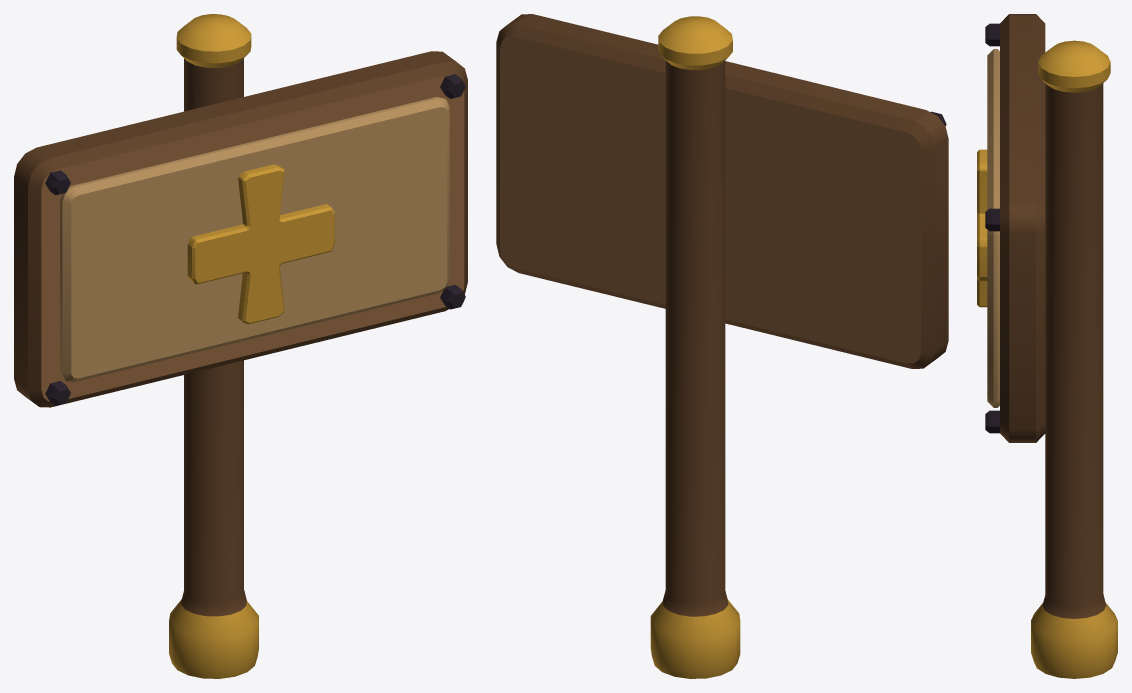
File: Sign_12.glb
3 views of the same model, side by side, from view 1: azimuth 30°, elevation 25°; view 2: azimuth 150°, elevation 25°; view 3: azimuth 270°, elevation 25° (orthographic). The views are drawn at different scales.
Visible parts, largest first — view 1: Sign_12; view 2: Sign_12; view 3: Sign_12.
Part boxes in pixels (bbox=[...]): Sign_12: bbox=[14, 14, 467, 678]; Sign_12: bbox=[496, 14, 948, 678]; Sign_12: bbox=[977, 14, 1117, 678].
Bounding box in the file's own units: 2.35 × 3.28 × 0.68.
